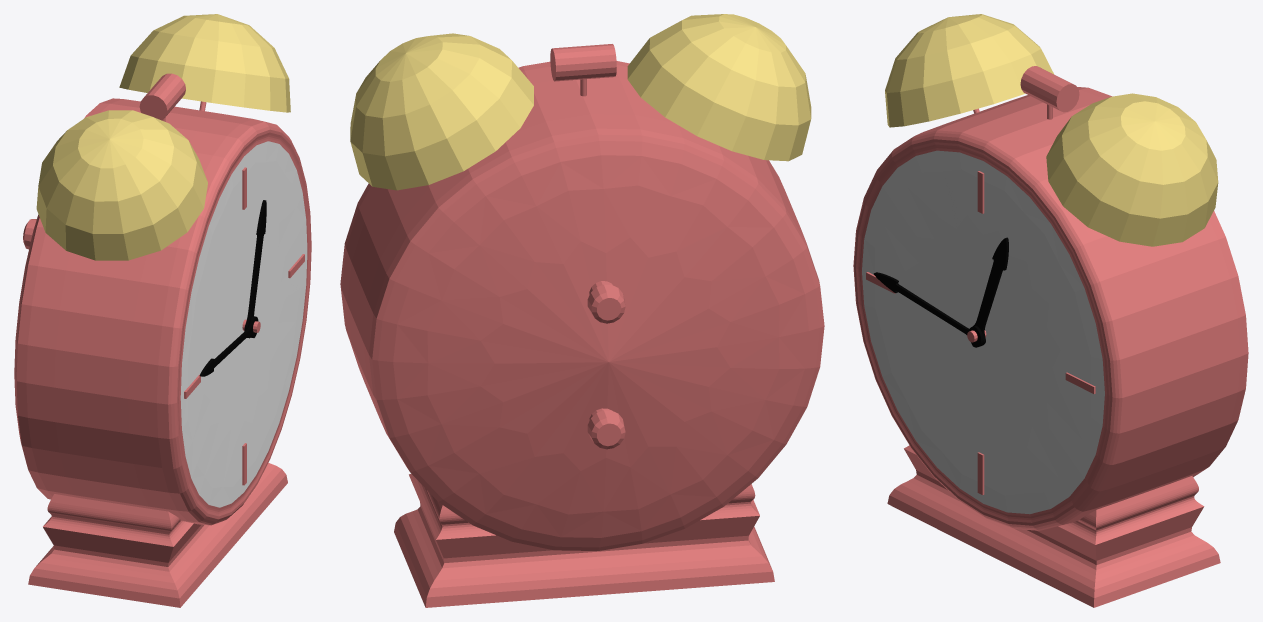
Rendered from alarm_clock.gltf.
3 views of the same model, side by side, from view 1: azimuth 30°, elevation 25°; view 2: azimuth 150°, elevation 25°; view 3: azimuth 270°, elevation 25° (orthographic). The views are drawn at different scales.
Visible parts, largest first — view 1: node-0; view 2: node-0; view 3: node-0.
Part boxes in pixels (bbox=[...]): node-0: bbox=[14, 14, 311, 607]; node-0: bbox=[340, 14, 824, 607]; node-0: bbox=[853, 14, 1248, 607].
Size of the model in its own units: 190 by 233 by 176.
